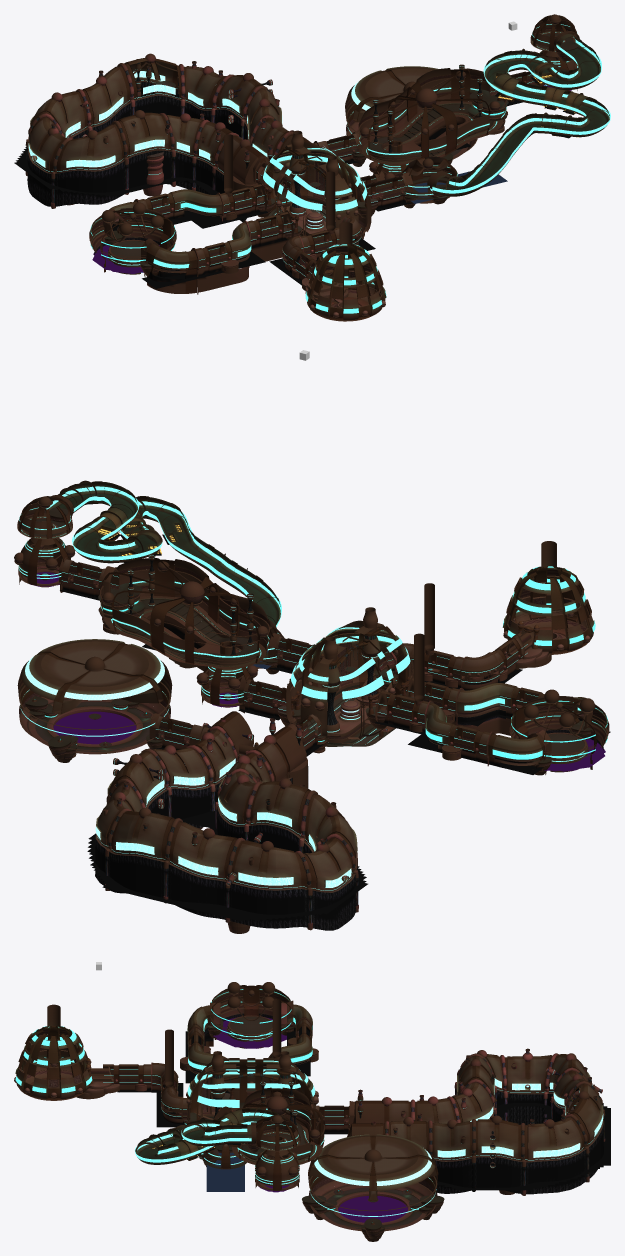
Rendered from preundg.glb.
3 views of the same model, one above another, from view 1: azimuth 30°, elevation 25°; view 2: azimuth 150°, elevation 25°; view 3: azimuth 270°, elevation 25° (orthographic). The views are drawn at different scales.
Parts seen in each view (by area): view 1: largehallflut.001, slide, upper room, hall.005, mainhall, PrecursorBell, hall.004, battlearena, largehallflut.002, hallbendandcap, waterpoolslideend, climbspire.001 (+13 smaller); view 2: largehallflut.001, upper room, largehallflut.002, slide, mainhall, PrecursorBell, hall.004, hall.005, battlearena, hallbendandcap, deathplane.001, climbspire.001 (+12 smaller); view 3: largehallflut.001, largehallflut.002, PrecursorBell, slide, mainhall, upper room, battlearena, hallbendandcap, launchermodule.001, deathplane.001, hall.005, hall.004 (+12 smaller).
Boxes of the visible parts, x1=… form: largehallflut.001: x1=25, y1=53, x2=310, y2=221; slide: x1=427, y1=31, x2=610, y2=197; upper room: x1=358, y1=68, x2=506, y2=164; hall.005: x1=141, y1=211, x2=292, y2=294; mainhall: x1=257, y1=142, x2=371, y2=239; PrecursorBell: x1=305, y1=222, x2=386, y2=321; hall.004: x1=103, y1=183, x2=264, y2=239; battlearena: x1=89, y1=202, x2=176, y2=276; largehallflut.002: x1=345, y1=66, x2=477, y2=159; hallbendandcap: x1=281, y1=214, x2=361, y2=280; waterpoolslideend: x1=401, y1=156, x2=458, y2=203; climbspire.001: x1=289, y1=130, x2=340, y2=230; largehallflut.001: x1=95, y1=711, x2=358, y2=930; upper room: x1=99, y1=558, x2=270, y2=670; largehallflut.002: x1=17, y1=639, x2=172, y2=754; slide: x1=44, y1=480, x2=281, y2=640; mainhall: x1=286, y1=620, x2=413, y2=746; PrecursorBell: x1=502, y1=541, x2=595, y2=658; hall.004: x1=376, y1=690, x2=551, y2=771; hall.005: x1=406, y1=677, x2=592, y2=735; battlearena: x1=509, y1=689, x2=609, y2=774; hallbendandcap: x1=378, y1=633, x2=527, y2=690; deathplane.001: x1=87, y1=810, x2=367, y2=921; climbspire.001: x1=321, y1=607, x2=380, y2=732; largehallflut.001: x1=347, y1=1050, x2=605, y2=1195; largehallflut.002: x1=308, y1=1134, x2=438, y2=1231; PrecursorBell: x1=14, y1=1004, x2=112, y2=1100; slide: x1=134, y1=1107, x2=283, y2=1164; mainhall: x1=186, y1=1058, x2=318, y2=1122; upper room: x1=231, y1=1087, x2=325, y2=1164; battlearena: x1=210, y1=982, x2=292, y2=1039; hallbendandcap: x1=103, y1=1062, x2=190, y2=1123; launchermodule.001: x1=255, y1=1136, x2=299, y2=1190; deathplane.001: x1=437, y1=1096, x2=610, y2=1190; hall.005: x1=187, y1=1002, x2=226, y2=1074; hall.004: x1=268, y1=1000, x2=312, y2=1065.
Bounding box in the file's own units: 507 × 274 × 549.
Materials: 180 (177 with a texture image).
